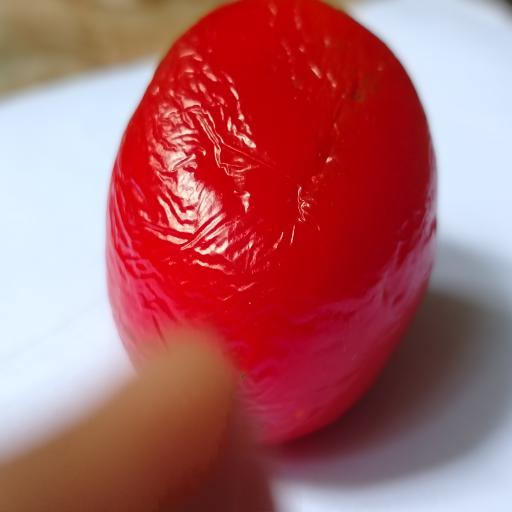spoiled: (107, 0, 437, 442)
